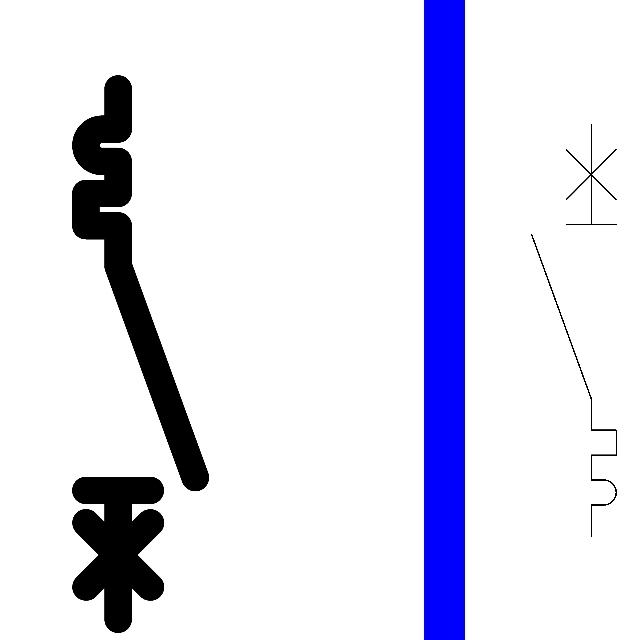interruptor_termomagnetico: (72, 75, 208, 633), (521, 114, 627, 547)
